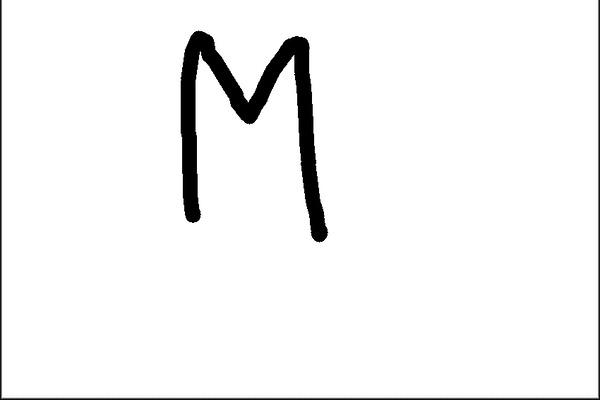M: (159, 27, 331, 241)
